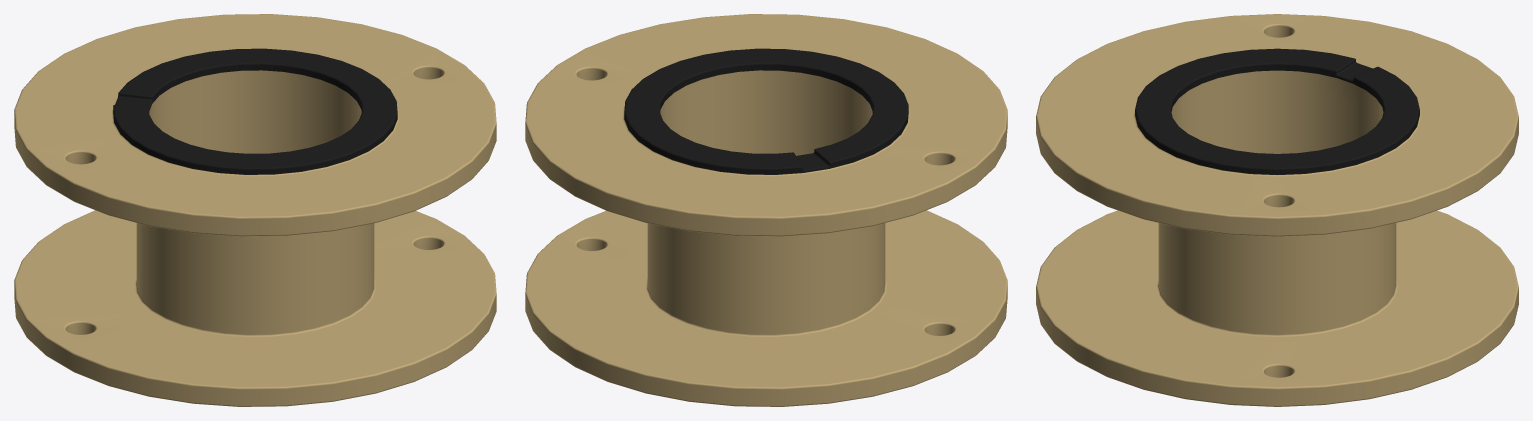
File: WoodenSpool1.fbx
The picture shows the model from 3 angles, left to right: view 1: azimuth 30°, elevation 25°; view 2: azimuth 150°, elevation 25°; view 3: azimuth 270°, elevation 25°; orthographic projection.
Visible parts, largest first — view 1: WireSpool1; view 2: WireSpool1; view 3: WireSpool1.
Part boxes in pixels (x1,y1,x2,y2): WireSpool1: (14,14,496,406); WireSpool1: (525,14,1007,406); WireSpool1: (1036,14,1518,406).
Size of the model in its own units: 673 by 314 by 673.
